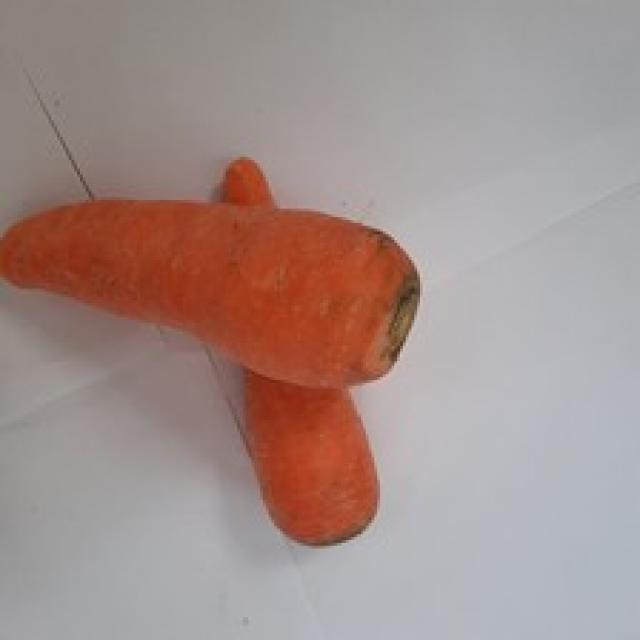carrot: (0, 200, 425, 385), (213, 151, 384, 550)
